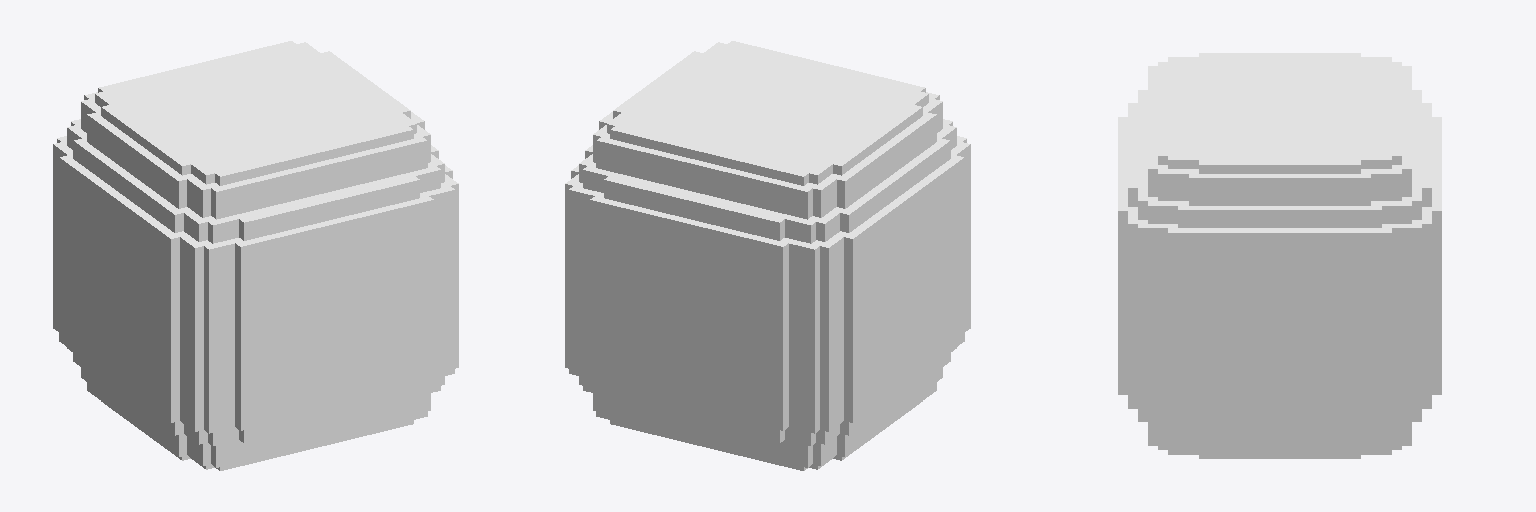
File: test-block-32-32.obj
The picture shows the model from 3 angles: view 1: azimuth 30°, elevation 25°; view 2: azimuth 150°, elevation 25°; view 3: azimuth 270°, elevation 25°; orthographic projection.
Visible parts, largest first — view 1: object 1; view 2: object 1; view 3: object 1.
Boxes of the visible parts, <box> form: object 1: <box>53,41,458,470</box>; object 1: <box>565,41,970,470</box>; object 1: <box>1118,53,1441,458</box>.
Size of the model in its own units: 3.2 by 3.2 by 3.2.